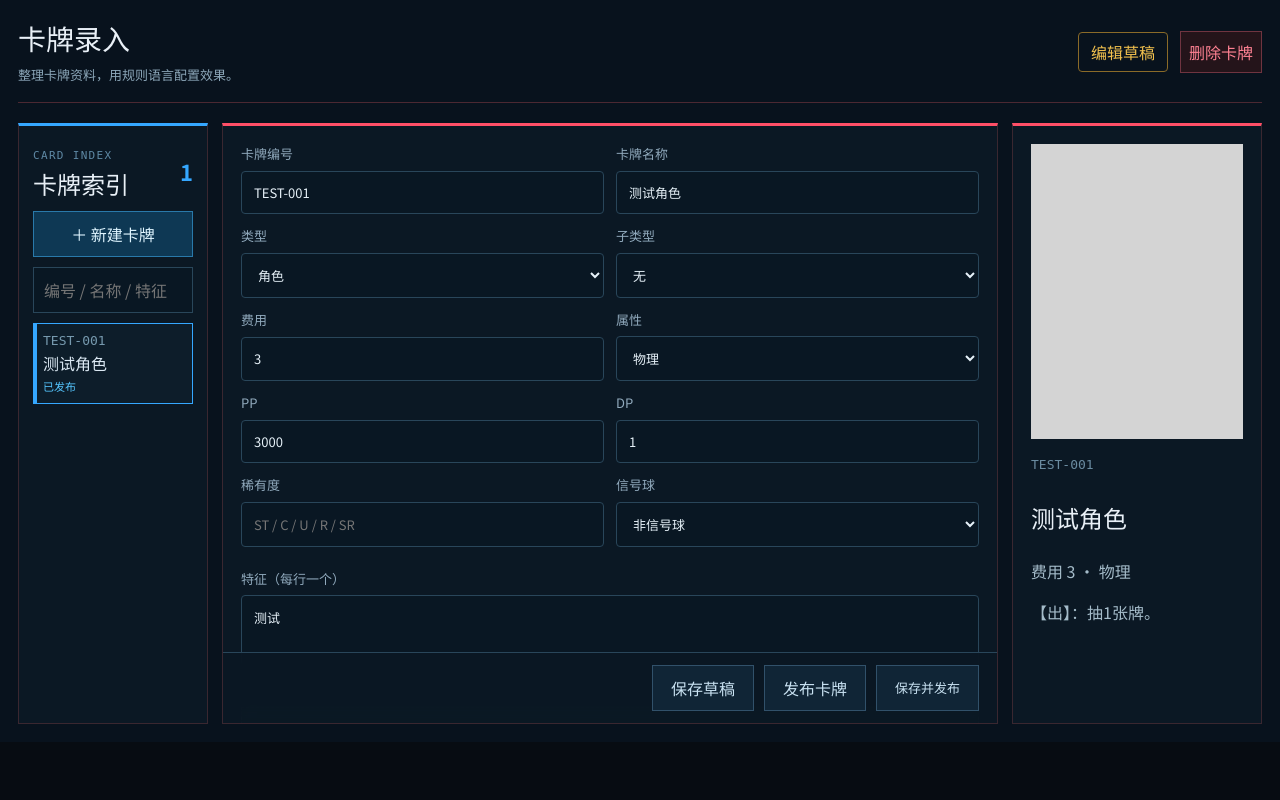
Test case: card platform screens › shows a failed deletion inside the confirmation dialog and retains the selected card
What coordinates should you click on to do the following:
click the button "删除卡牌"
I would click on:
 (1221, 52)
Its box is [1180,31,1262,73].
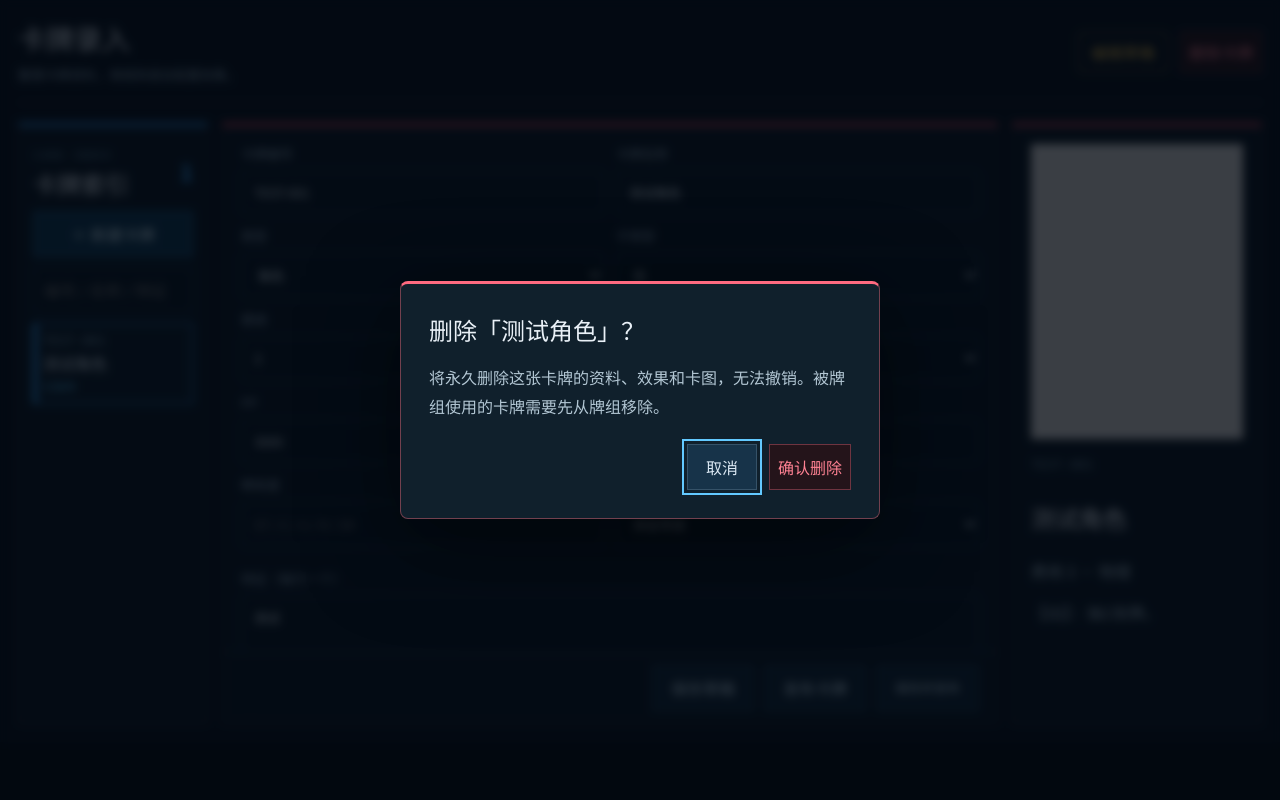
What coordinates should you click on to do the following:
click the button "确认删除"
I would click on:
 (810, 467)
Its box is [769,444,851,490].
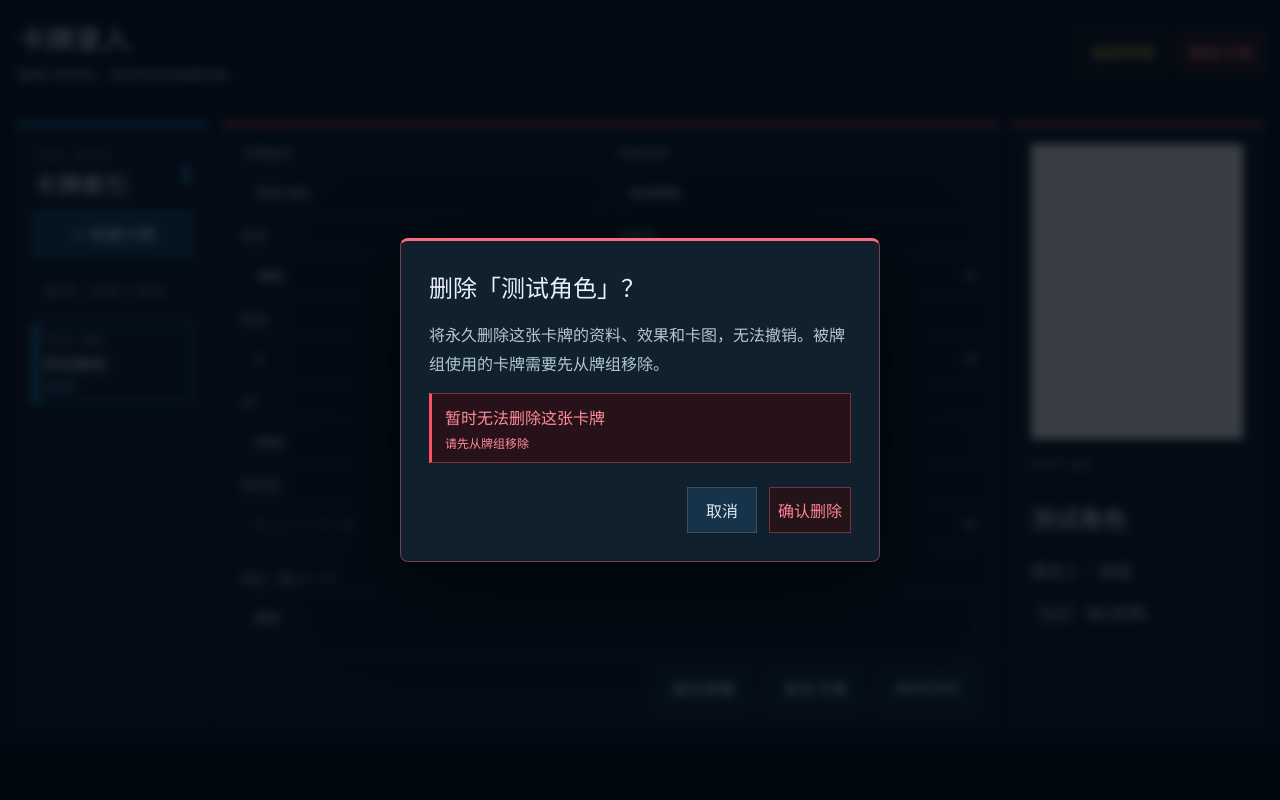
Expected: the field labelled "卡牌编号" holds "TEST-001", [241,171,604,214]
Expected: the dialog is shown, [400,238,880,562]
Expected: the message shows "请先从牌组移除", [445,434,529,451]
